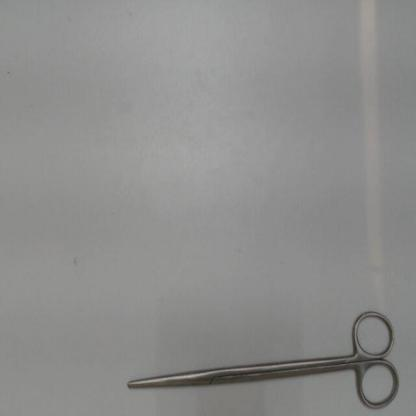9 Metzenbaum Scissors: (126, 304, 402, 413)
